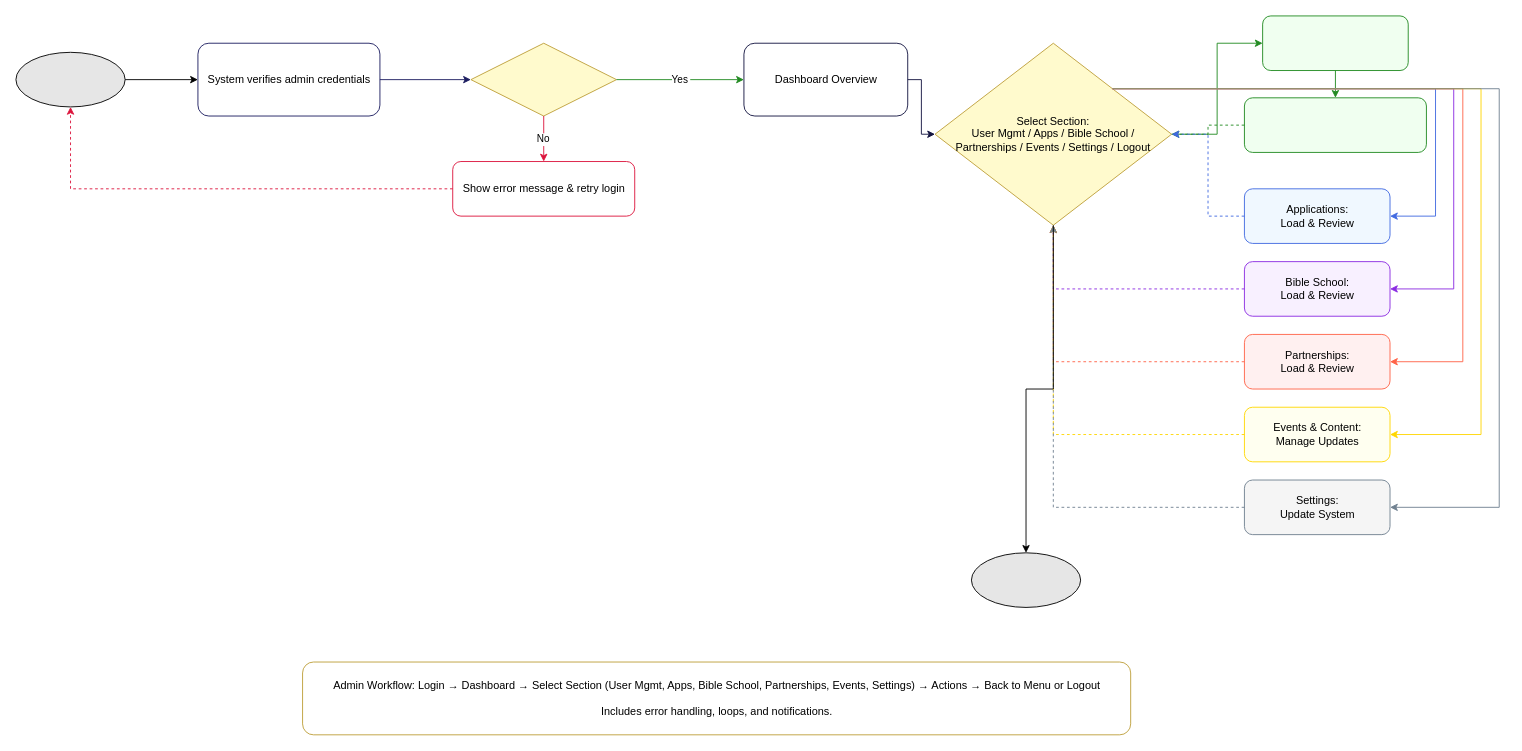
The diagram is 1522 pixels wide and 751 high, and some of its shapes have lost their labels. The shapes that lost their labels are listed below. From the top down, each one's centre as x and y in pixels, then its label:
At point 1335,43: "User Management: Load Users".
At point 70,79: "Start: Admin Logs In".
At point 543,79: "Is login successful?".
At point 1335,124: "User Actions: View / Approve / Reject / Assign Role".
At point 1026,579: "End: Admin Logs Out".
